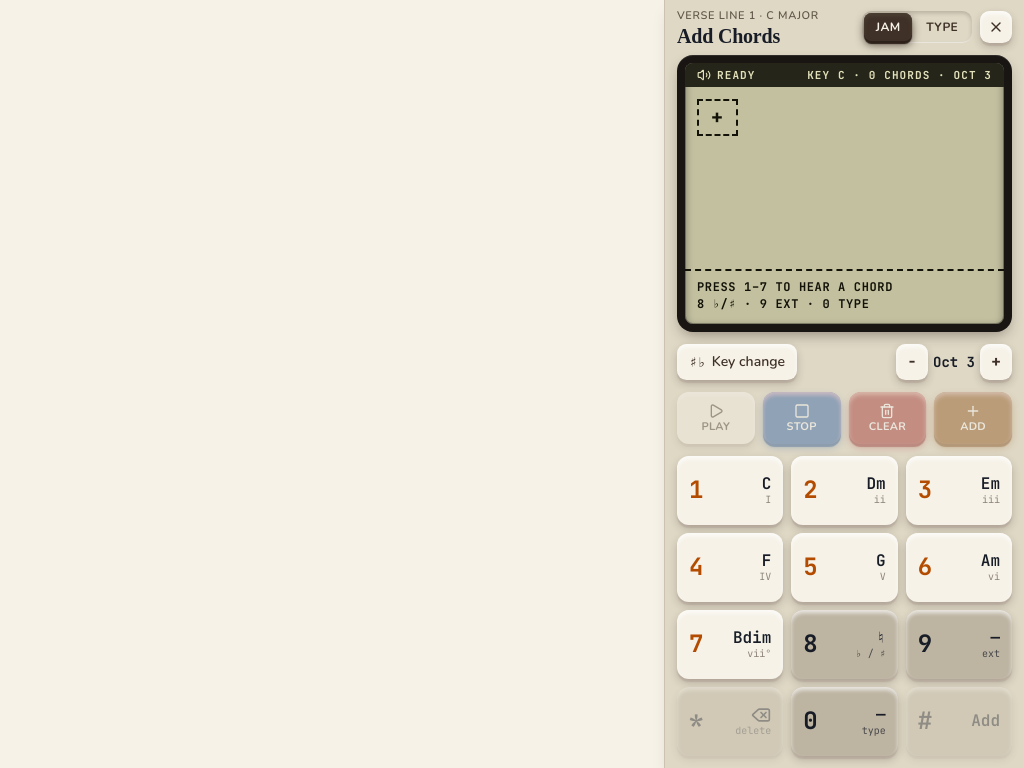
Scenario: JamCanvas › key change › the toggle adds a key-change object and opens the 12-key list
Click the button named "1, ". click: (730, 490)
box: [677, 456, 783, 525]
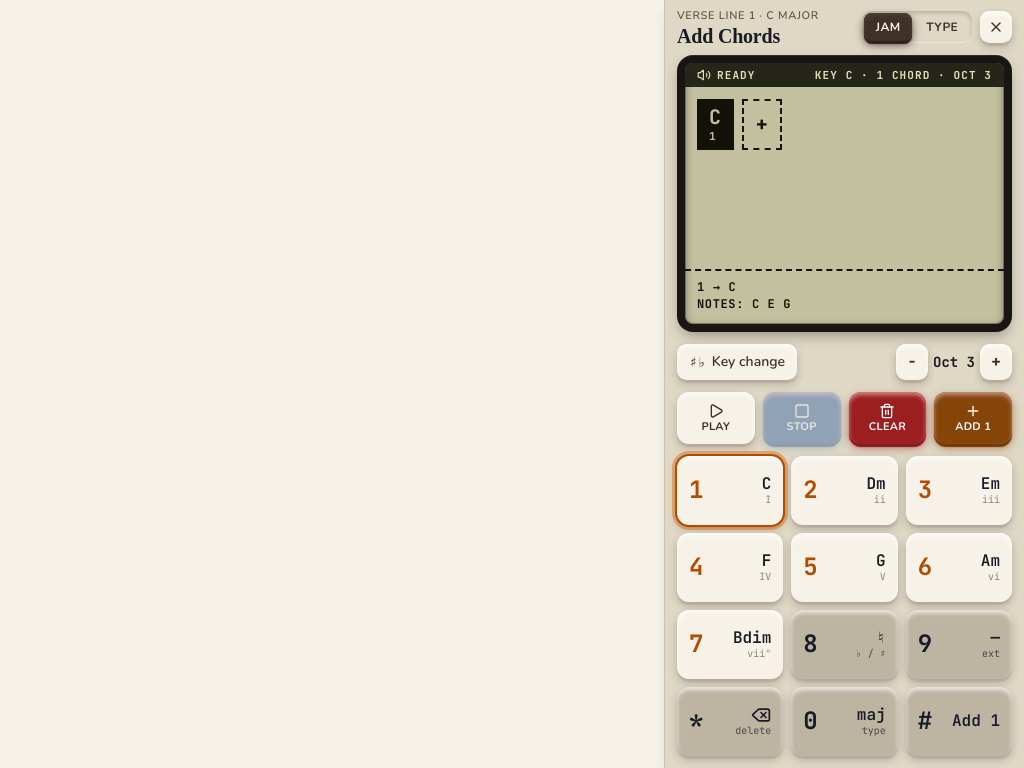
Click the button "♯♭ Key change". click: (737, 362)
box: [677, 344, 797, 380]
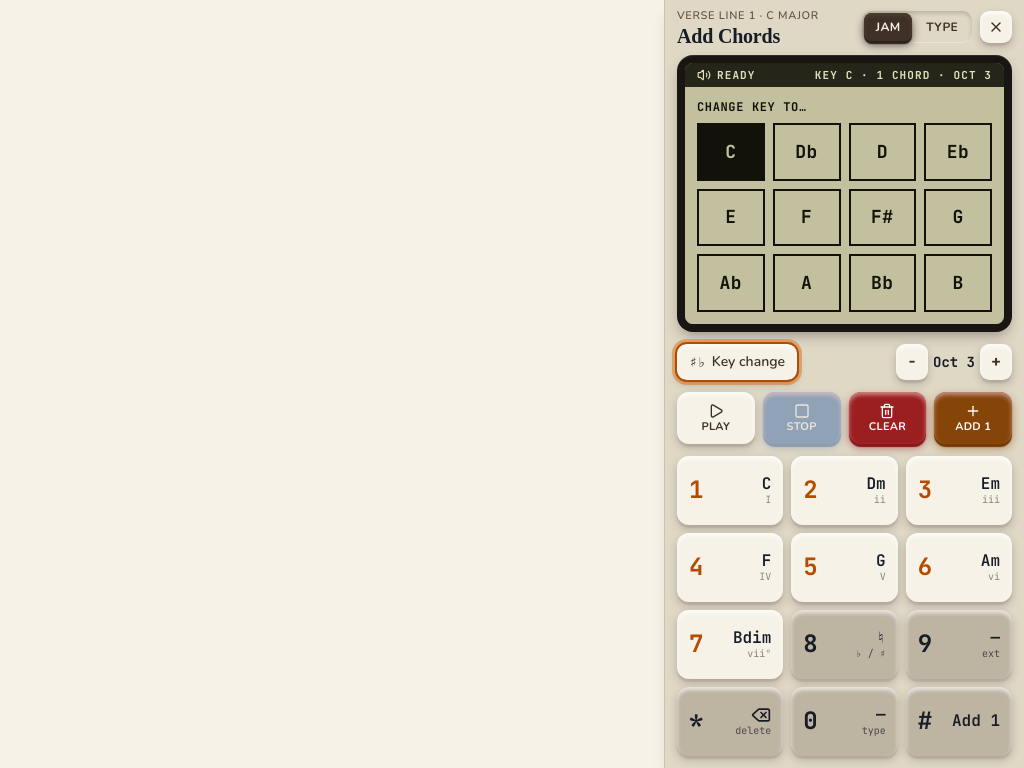
Expected: the element named "Choose the new key" is shown, [685, 87, 1004, 324]
Expected: the number of buttons named "Key of " is 12
